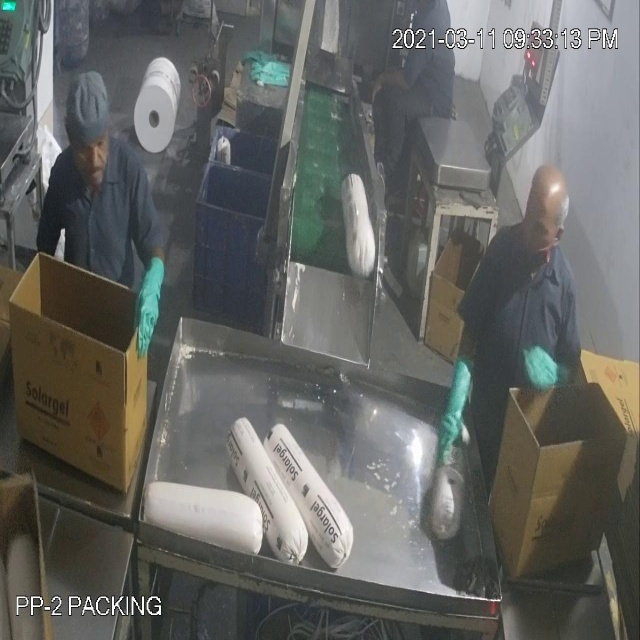Guantes: (430, 340, 474, 471), (128, 253, 168, 365), (519, 341, 568, 405)
Sin_guantes: (364, 59, 420, 110)
